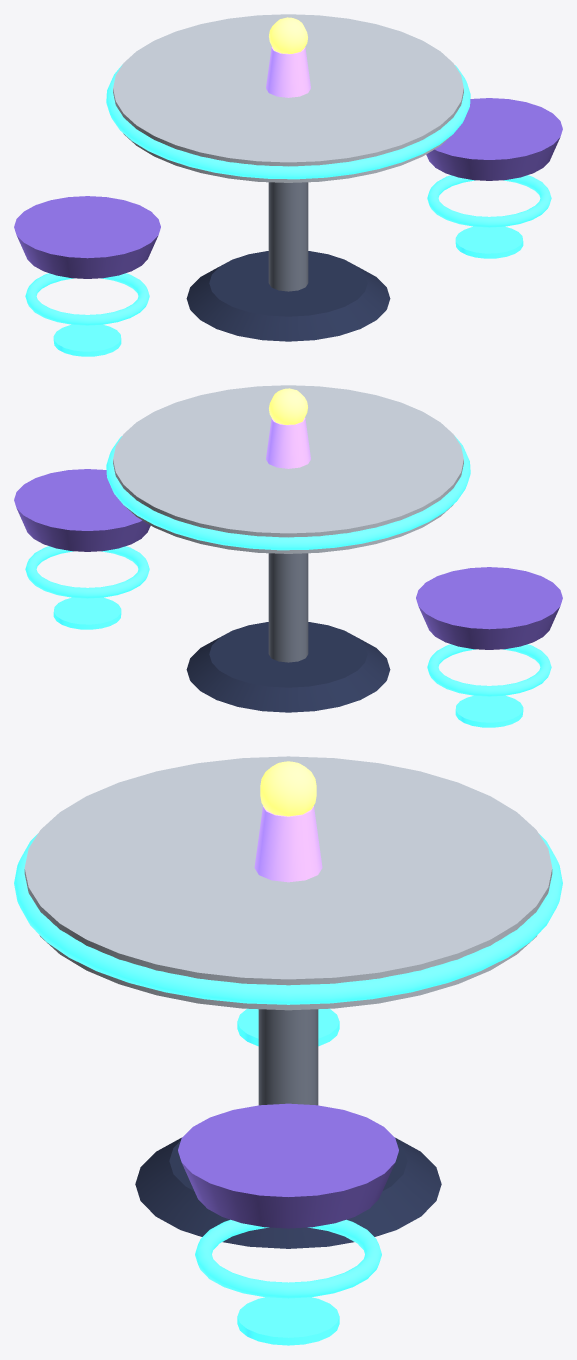
Rendered from space_table.glb.
3 renders of one model, top to bottom at view 1: azimuth 30°, elevation 25°; view 2: azimuth 150°, elevation 25°; view 3: azimuth 270°, elevation 25°, orthographic. The views are drawn at different scales.
Size of the model in its own units: 2.16 by 1.09 by 1.29.
